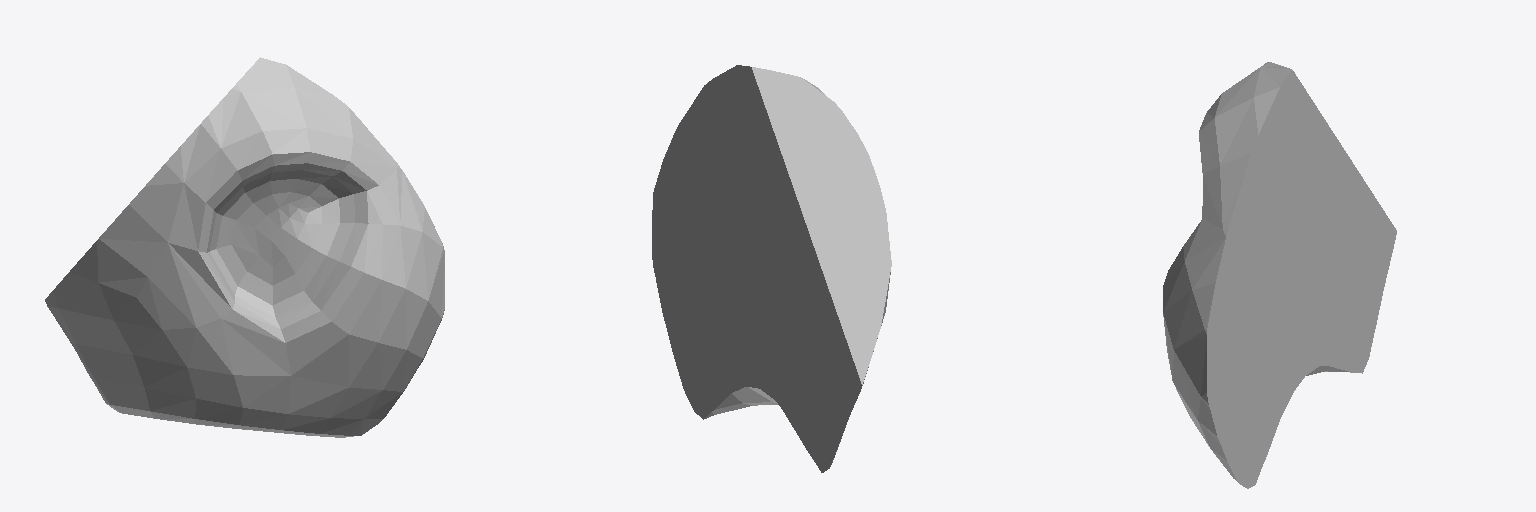
Rendered from FracturePartFracture_001.obj.
3 renders of one model, left to right at view 1: azimuth 30°, elevation 25°; view 2: azimuth 150°, elevation 25°; view 3: azimuth 270°, elevation 25°, orthographic.
Parts seen in each view (by area): view 1: Fracture.001; view 2: Fracture.001; view 3: Fracture.001.
Boxes of the visible parts, <box> form: Fracture.001: <box>45,57,444,437</box>; Fracture.001: <box>652,65,891,472</box>; Fracture.001: <box>1163,62,1396,488</box>.
Size of the model in its own units: 1.19 by 1.42 by 0.7898.